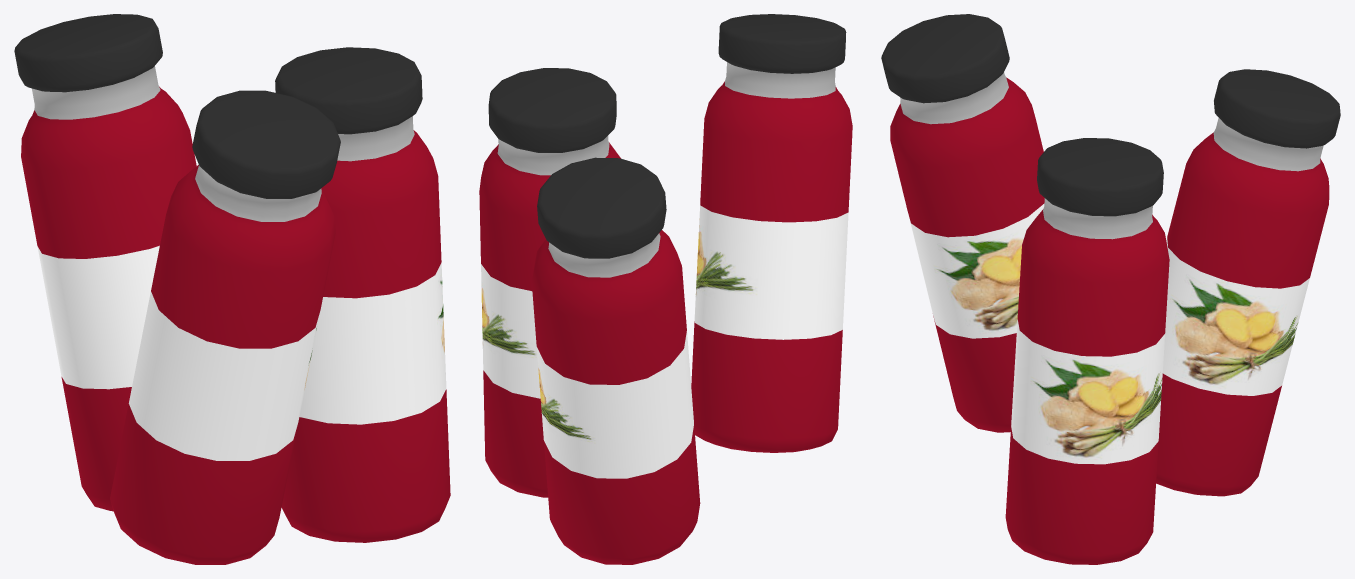
File: bottle.glb
3 views of the same model, side by side, from view 1: azimuth 30°, elevation 25°; view 2: azimuth 150°, elevation 25°; view 3: azimuth 270°, elevation 25° (orthographic). The views are drawn at different scales.
Visible parts, largest first — view 1: Ginger Bottle.001; view 2: Ginger Bottle.001; view 3: Ginger Bottle.001.
Boxes of the visible parts, x1,y1,x2,y2 form: Ginger Bottle.001: [14, 14, 450, 564]; Ginger Bottle.001: [479, 14, 852, 564]; Ginger Bottle.001: [881, 14, 1340, 564].
Bounding box in the file's own units: 0.7024 × 0.972 × 0.9255.
2 materials, 2 textured.
